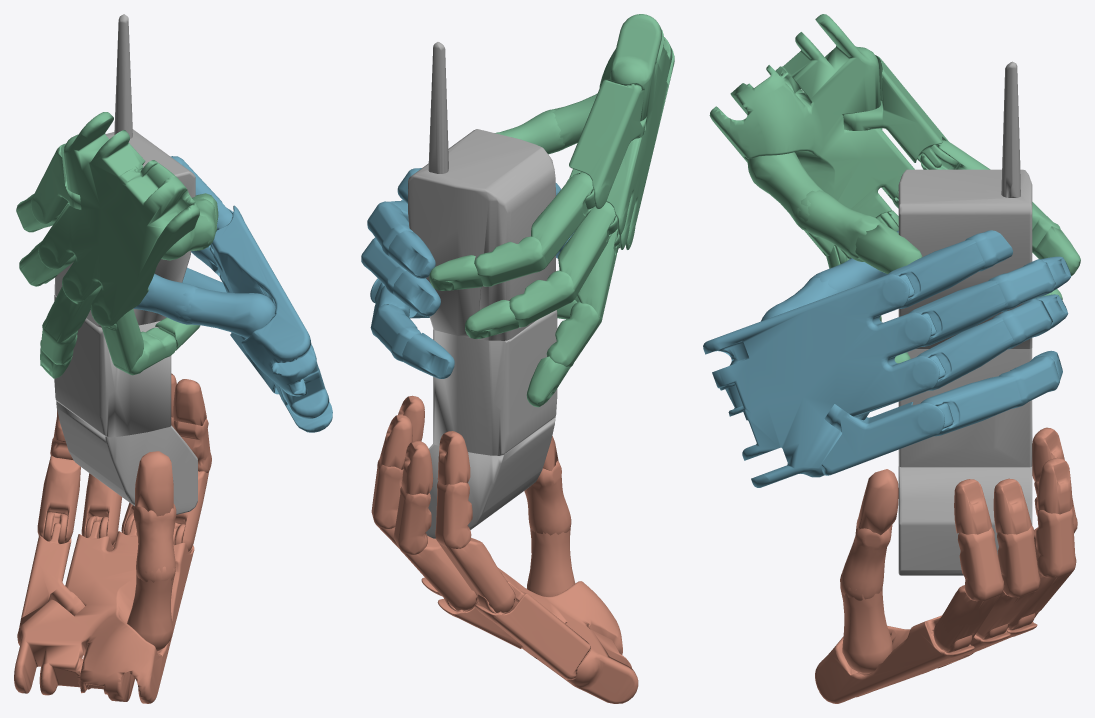
3 renders of one model, left to right at view 1: azimuth 30°, elevation 25°; view 2: azimuth 150°, elevation 25°; view 3: azimuth 270°, elevation 25°, orthographic. The views are drawn at different scales.
Size of the model in its own units: 0.1589 by 0.3771 by 0.191.
